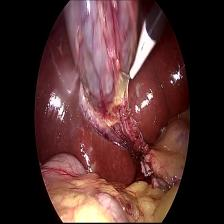Hook: (121, 20, 156, 86)
